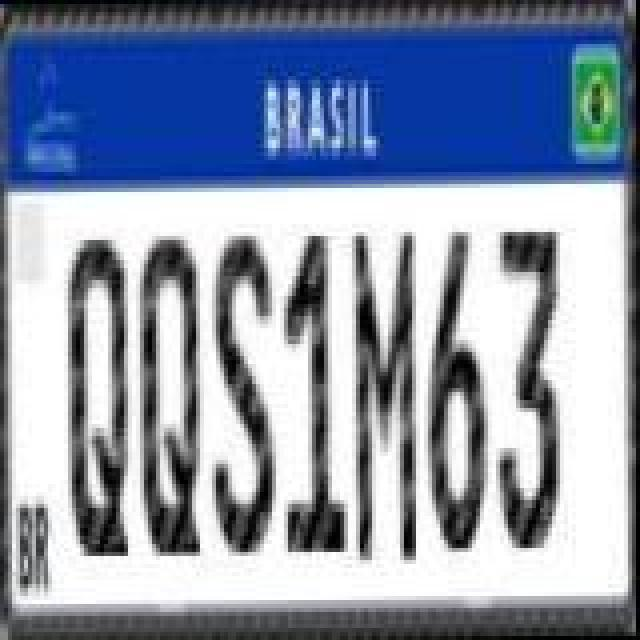1: (280, 228, 352, 556)
3: (494, 222, 562, 554)
6: (426, 226, 494, 554)
M: (352, 228, 416, 568)
Q: (66, 230, 134, 562), (134, 228, 202, 560)
S: (210, 226, 278, 562)
